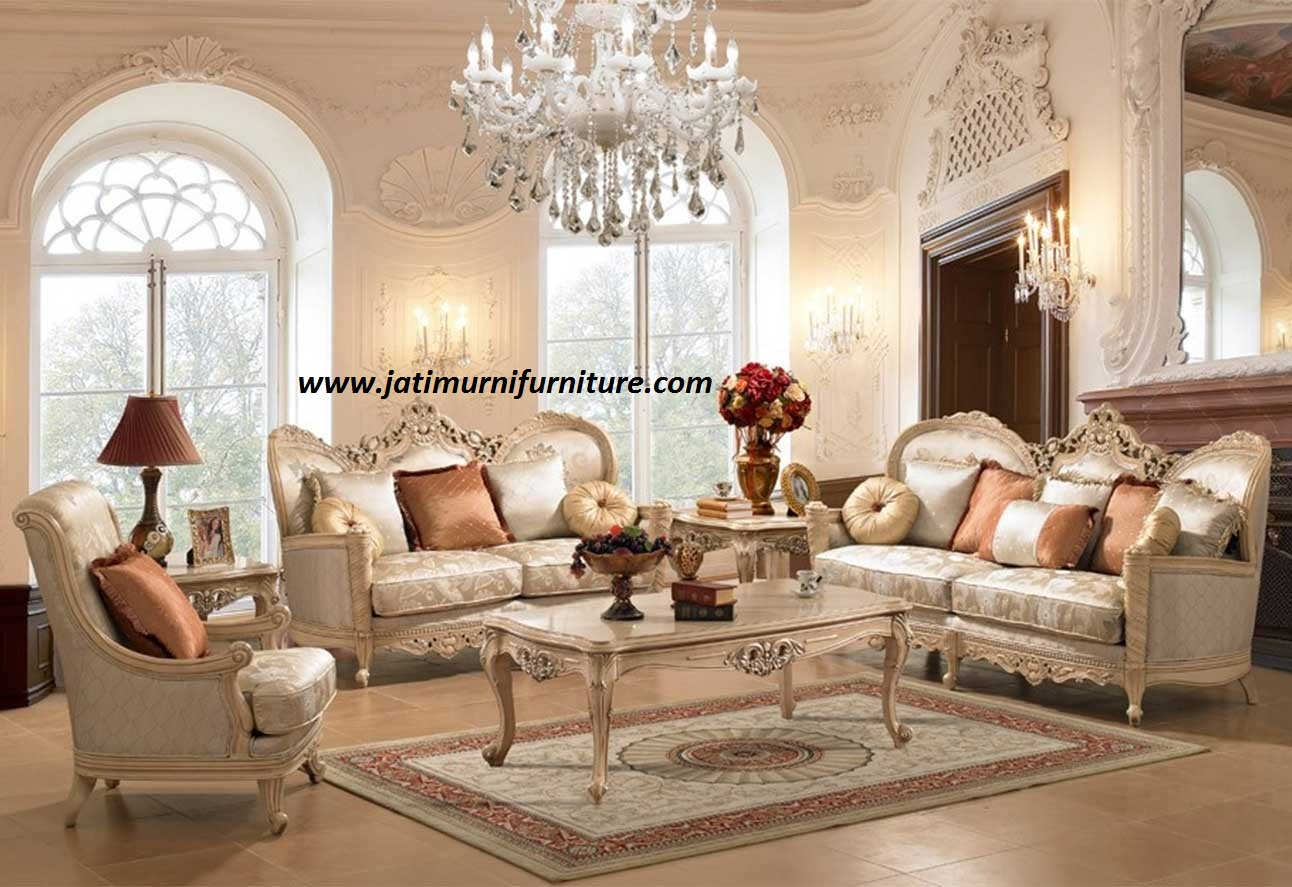Carving Chair: (819, 410, 1266, 724), (22, 479, 346, 818)
Carving Table: (491, 578, 933, 803)
